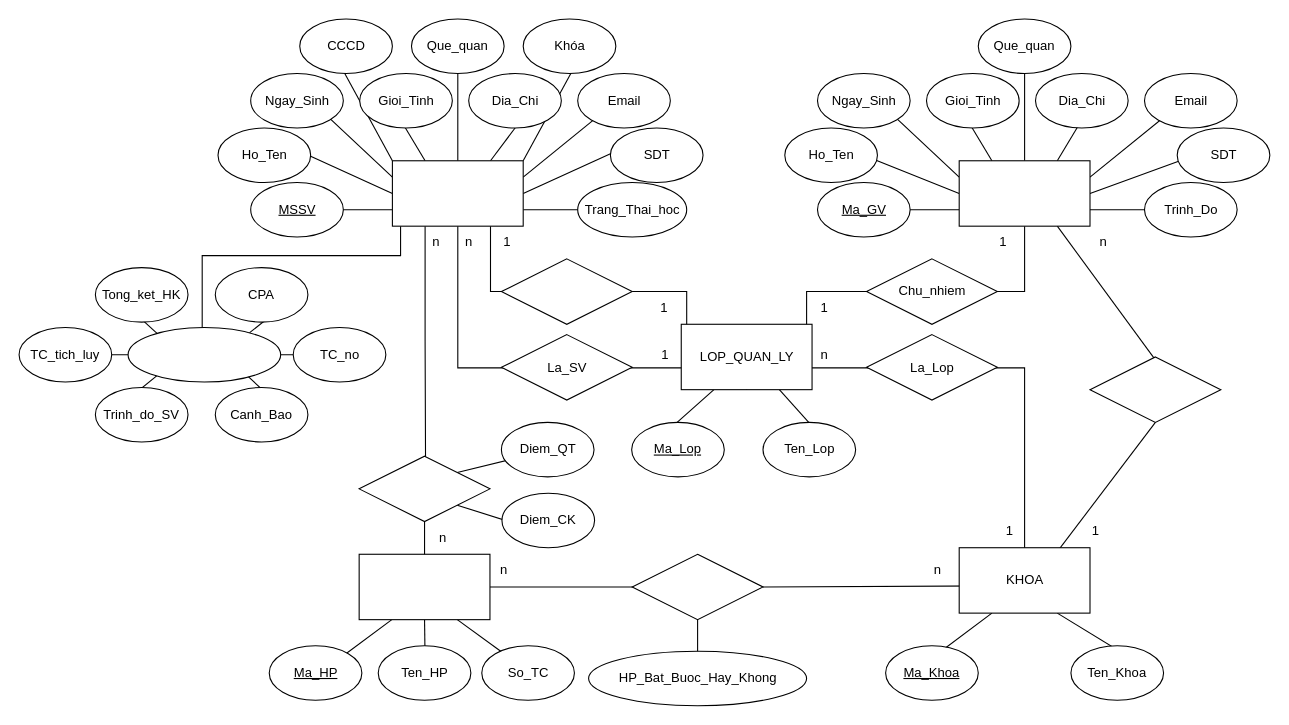
Image size: 1289x725. Some labels were removed from this diagram. Each missing label, with the centre of its shape:
"Dang_Ky" belongs at (x=424, y=488).
"GIAO_VIEN" belongs at (x=1024, y=193).
"HOC_PHAN" belongs at (x=424, y=586).
"La_GV" belongs at (x=1155, y=389).
"La_HP" belongs at (x=697, y=586).
"Lop_Truong" belongs at (x=566, y=291).
"SINH_VIEN" belongs at (x=457, y=193).
"Thong_tin_Hoc_tap" belongs at (x=204, y=354).
